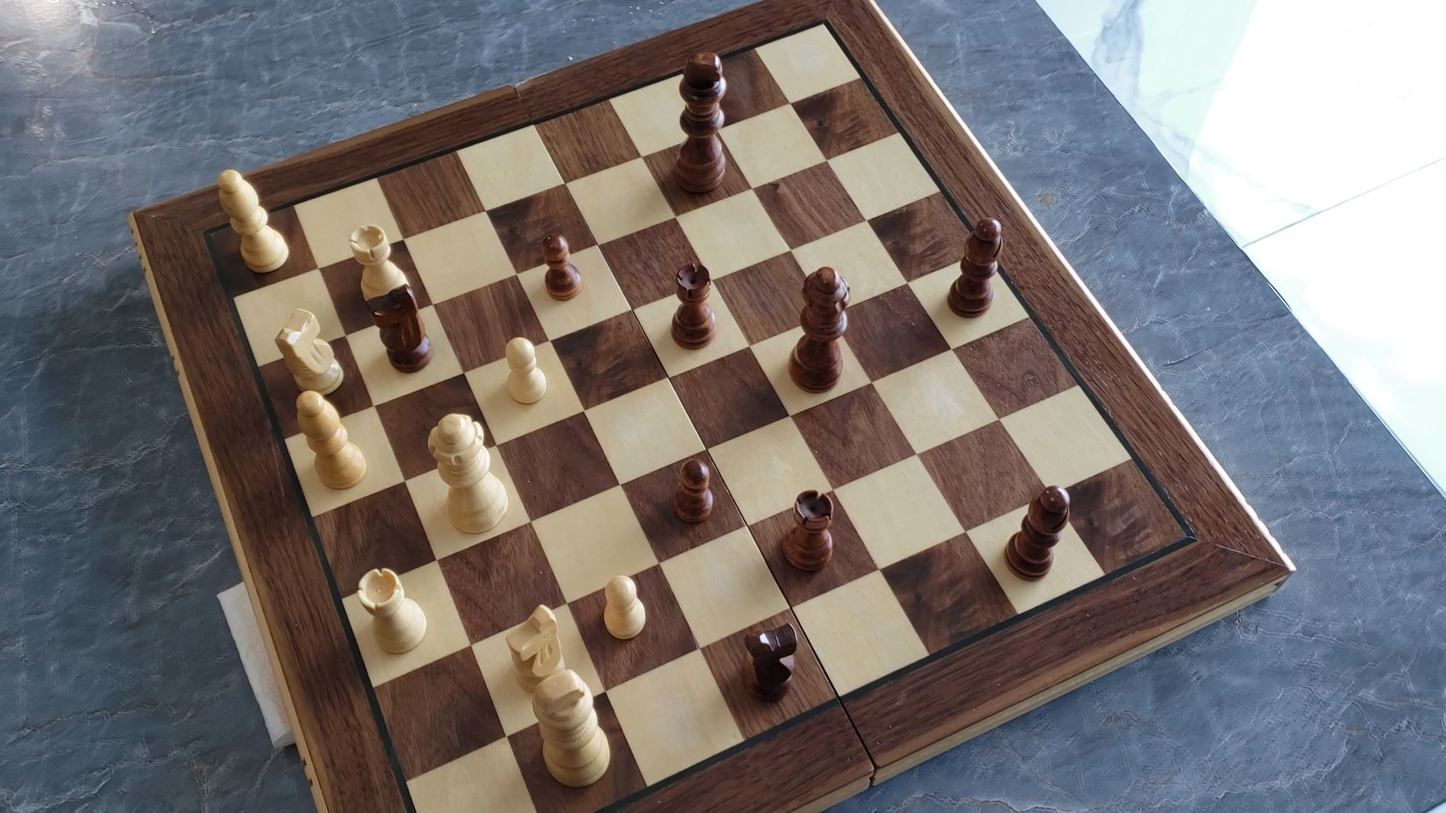black-bishop: (1000, 482, 1070, 583), (947, 213, 1004, 318)
black-king: (672, 46, 729, 196)
black-knight: (368, 282, 434, 374), (743, 621, 802, 706)
black-pawn: (670, 452, 718, 527), (539, 229, 583, 303)
black-queen: (787, 263, 853, 393)
black-rook: (778, 487, 838, 574), (669, 260, 718, 351)
white-bishop: (213, 165, 293, 278), (290, 389, 372, 493)
white-king: (526, 665, 617, 792)
white-knight: (273, 305, 347, 399), (500, 592, 575, 678)
white-pawn: (595, 569, 652, 644), (498, 333, 552, 409)
white-queen: (422, 410, 515, 539)
white-rook: (355, 563, 432, 659), (345, 220, 412, 308)
